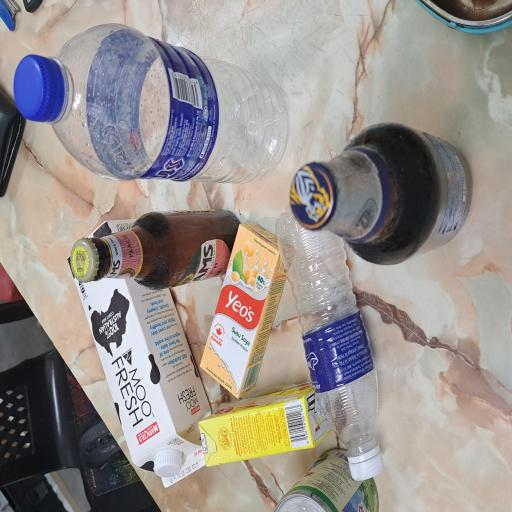can: (0, 366, 49, 504)
drink carton: (18, 90, 219, 281), (84, 266, 218, 392), (33, 264, 96, 443)
glass bottle: (186, 385, 292, 512), (168, 92, 227, 318)
plastic bottle: (249, 64, 366, 382), (46, 367, 226, 504)
plastic bottle cap: (292, 18, 344, 85), (22, 465, 46, 512), (26, 206, 44, 242)
